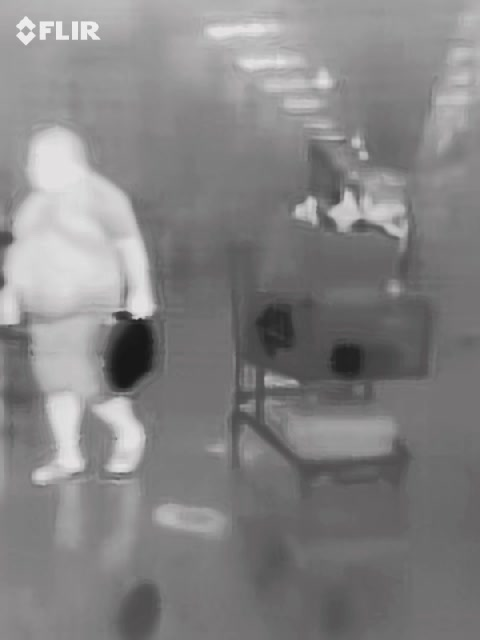head: (24, 128, 83, 189)
